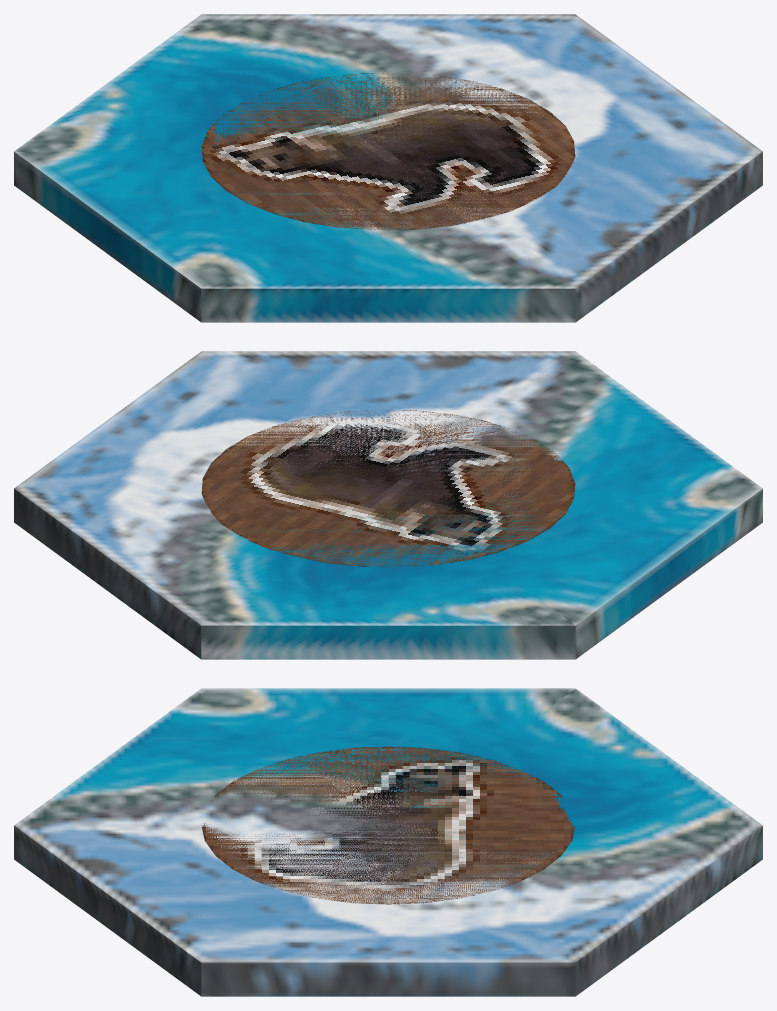
Rendered from cascadia.glb.
3 renders of one model, top to bottom at view 1: azimuth 30°, elevation 25°; view 2: azimuth 150°, elevation 25°; view 3: azimuth 270°, elevation 25°, orthographic.
Parts seen in each view (by area): view 1: lake-mountain, bear-token; view 2: lake-mountain, bear-token; view 3: lake-mountain, bear-token.
Boxes of the visible parts, x1,y1,x2,y2 form: lake-mountain: (14, 14, 762, 322); bear-token: (201, 73, 575, 230); lake-mountain: (14, 351, 762, 659); bear-token: (201, 410, 575, 567); lake-mountain: (14, 688, 762, 996); bear-token: (201, 746, 575, 904).
Bounding box in the file's own units: 1.73 × 0.1 × 2.
27 materials, 26 textured.
